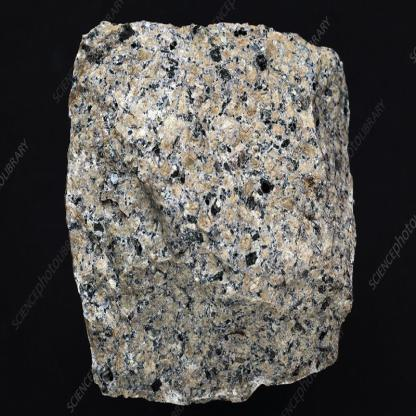Igneous_Diorite: (61, 7, 359, 414)
